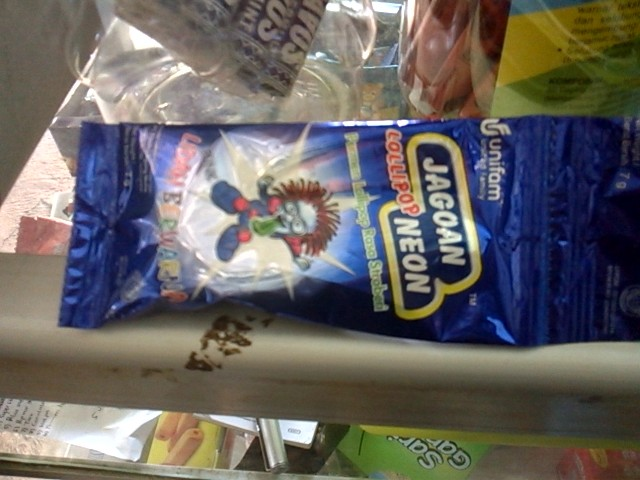jagoan neon: (59, 116, 557, 346)
